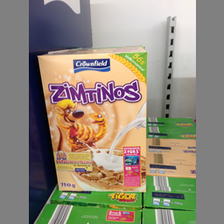cereal: (37, 49, 148, 190)
